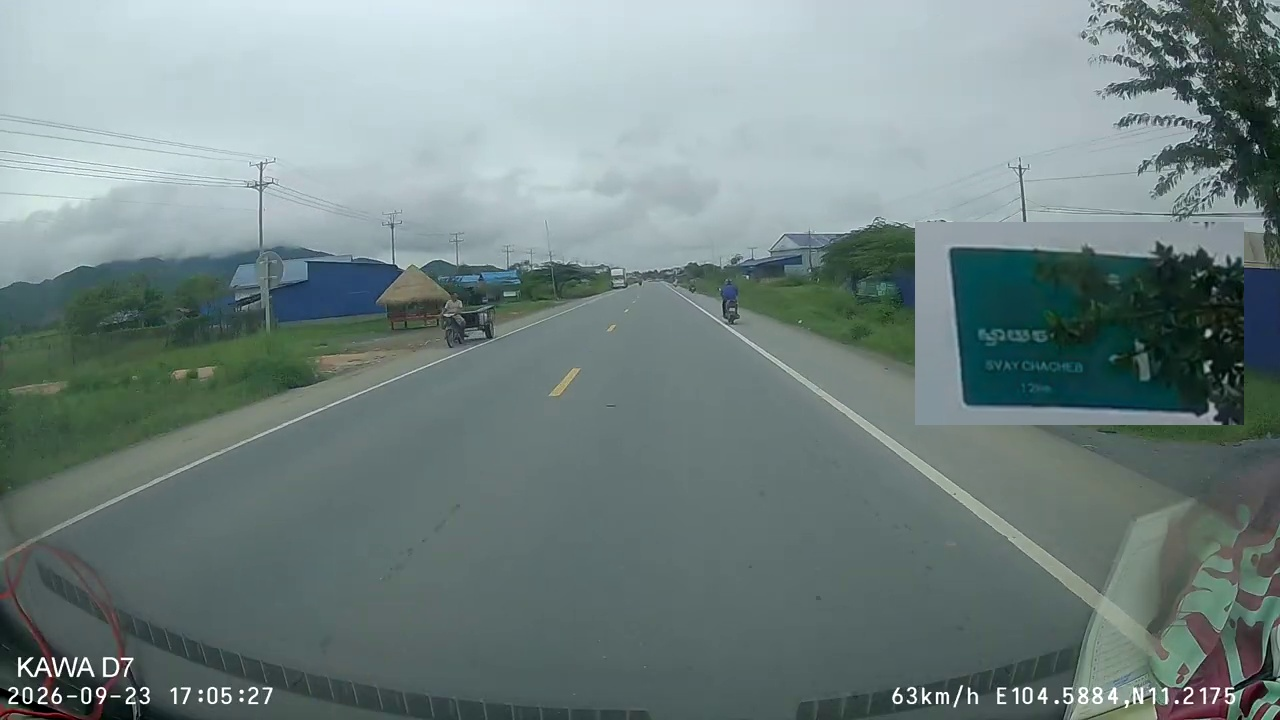direction_sign: (915, 222, 1244, 425)
